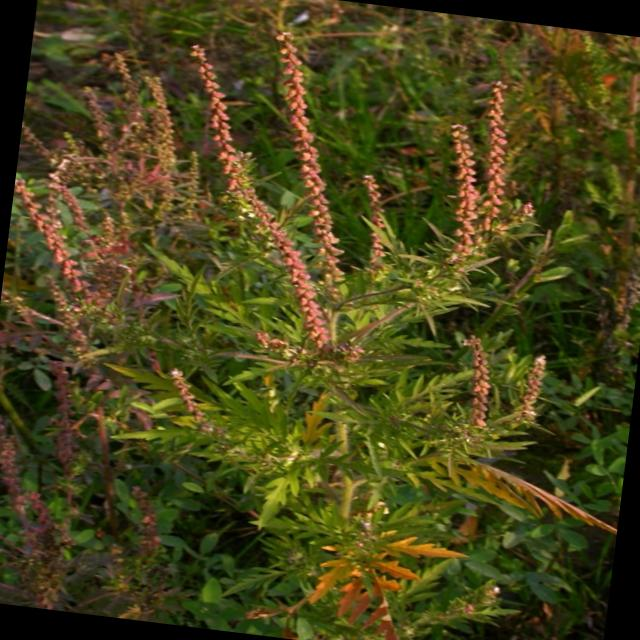ambrosia: (193, 370, 612, 638), (138, 16, 385, 388), (394, 84, 544, 314)
